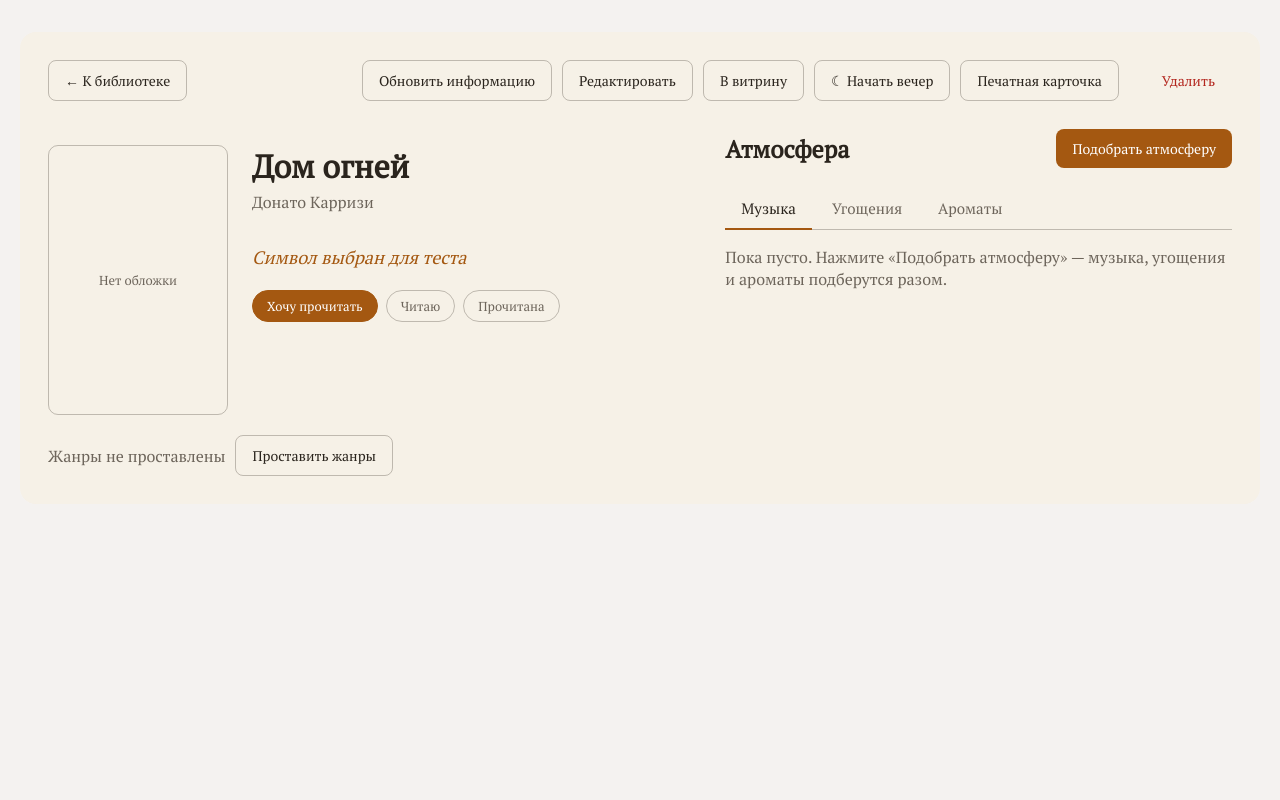
Scenario: ручная правка книги: смена названия сохраняется (задача 3)
Expected: the heading "Дом огней" is shown, [252, 145, 409, 187]
Step 1. Click the button "Редактировать" → (627, 80), box [562, 60, 693, 101]
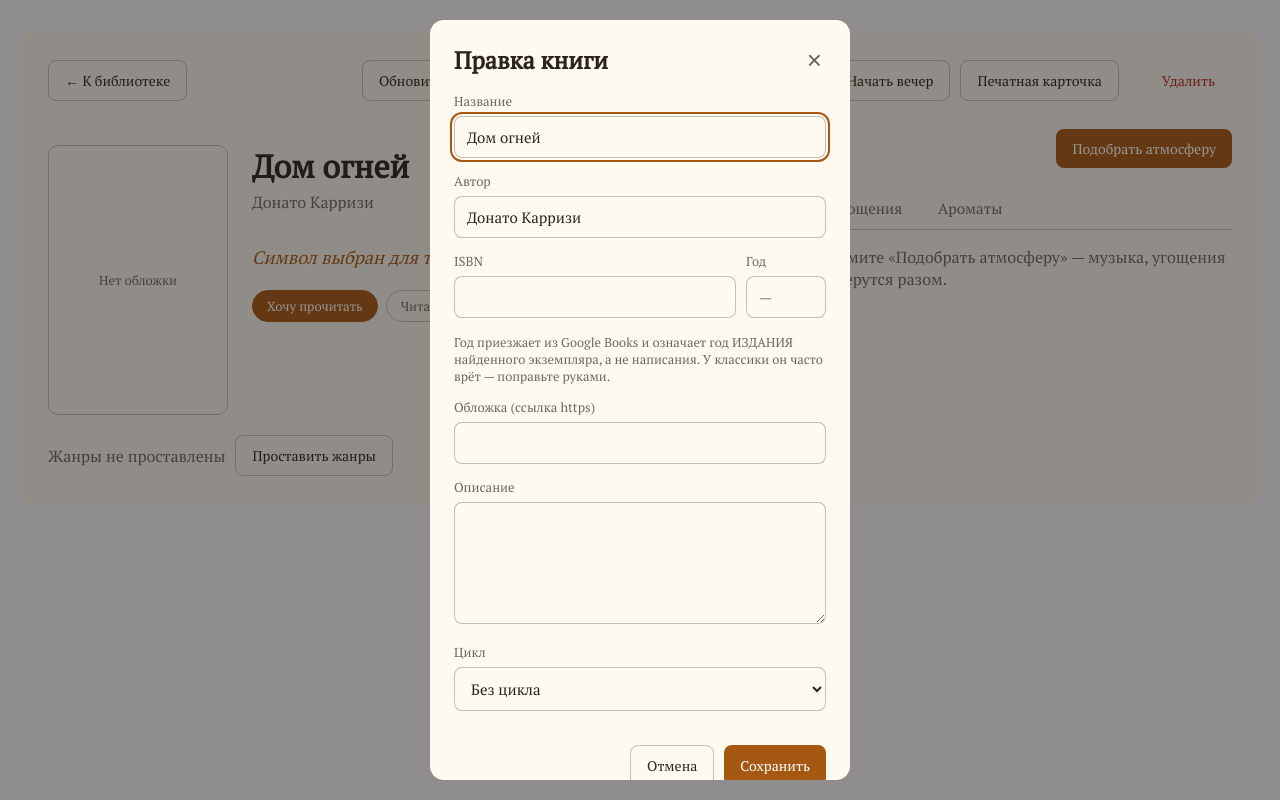
Expected: the field labelled "Название" holds "Дом огней"
Step 2. Clear the field labelled "Название" → (640, 137), box [454, 116, 826, 158]
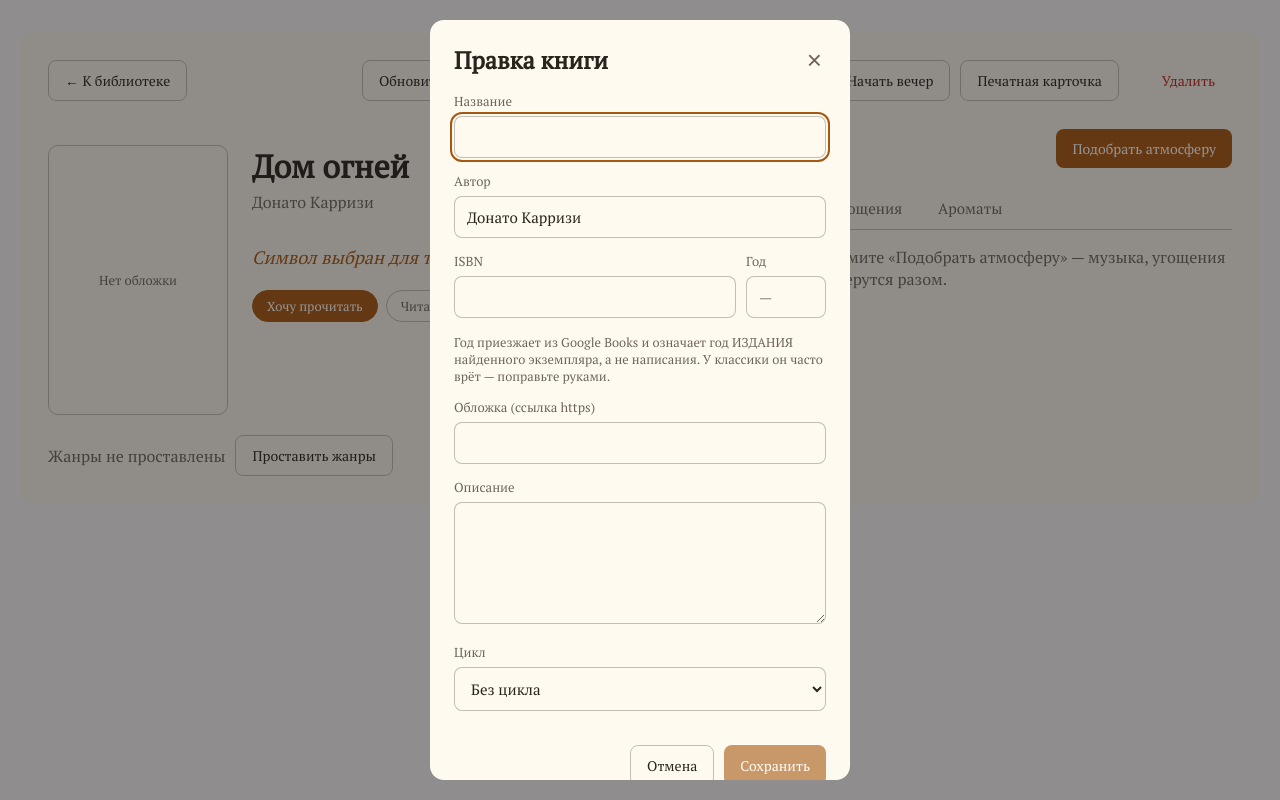
Expected: the button "Сохранить" is disabled, [724, 745, 826, 780]
Step 3. Type "Дом огней (перевод 2021)" into the field labelled "Название" → (640, 137), box [454, 116, 826, 158]
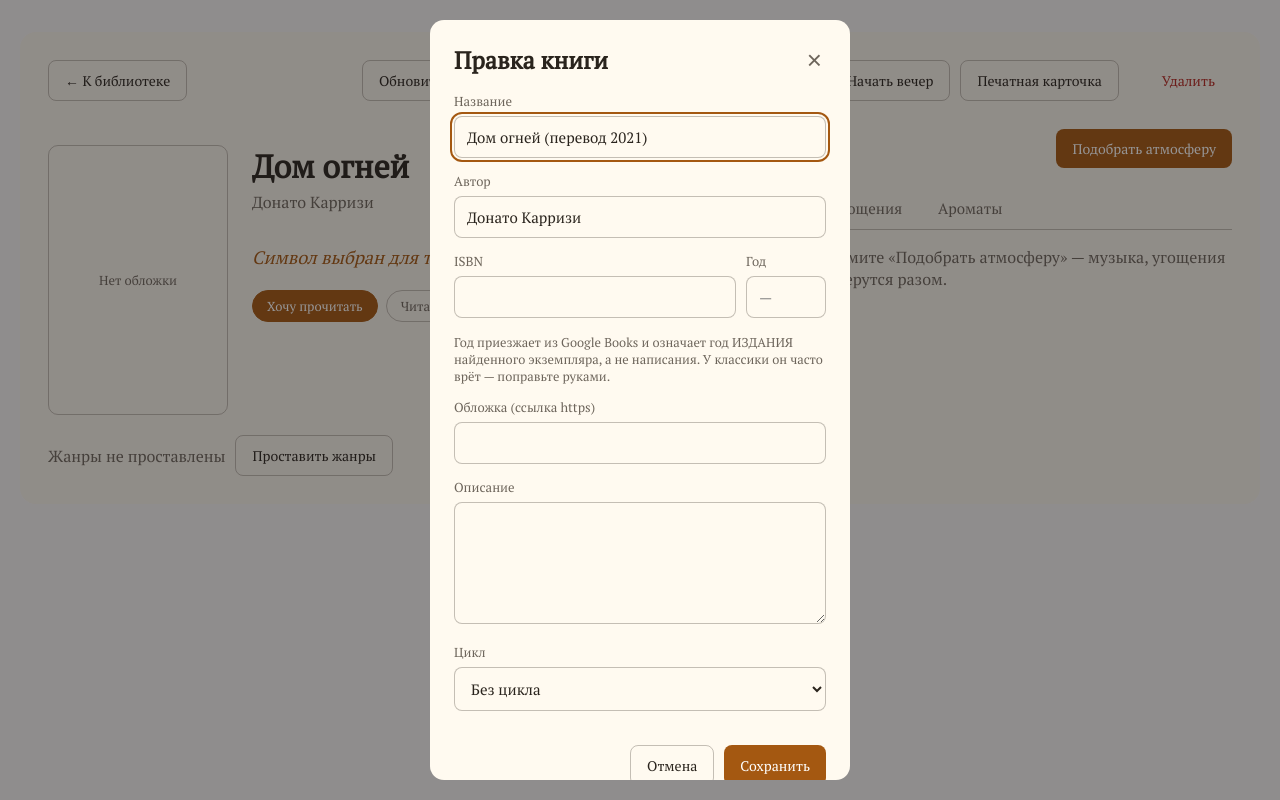
Expected: the button "Сохранить" is enabled
Step 4. Click the button "Сохранить" → (775, 765), box [724, 745, 826, 786]
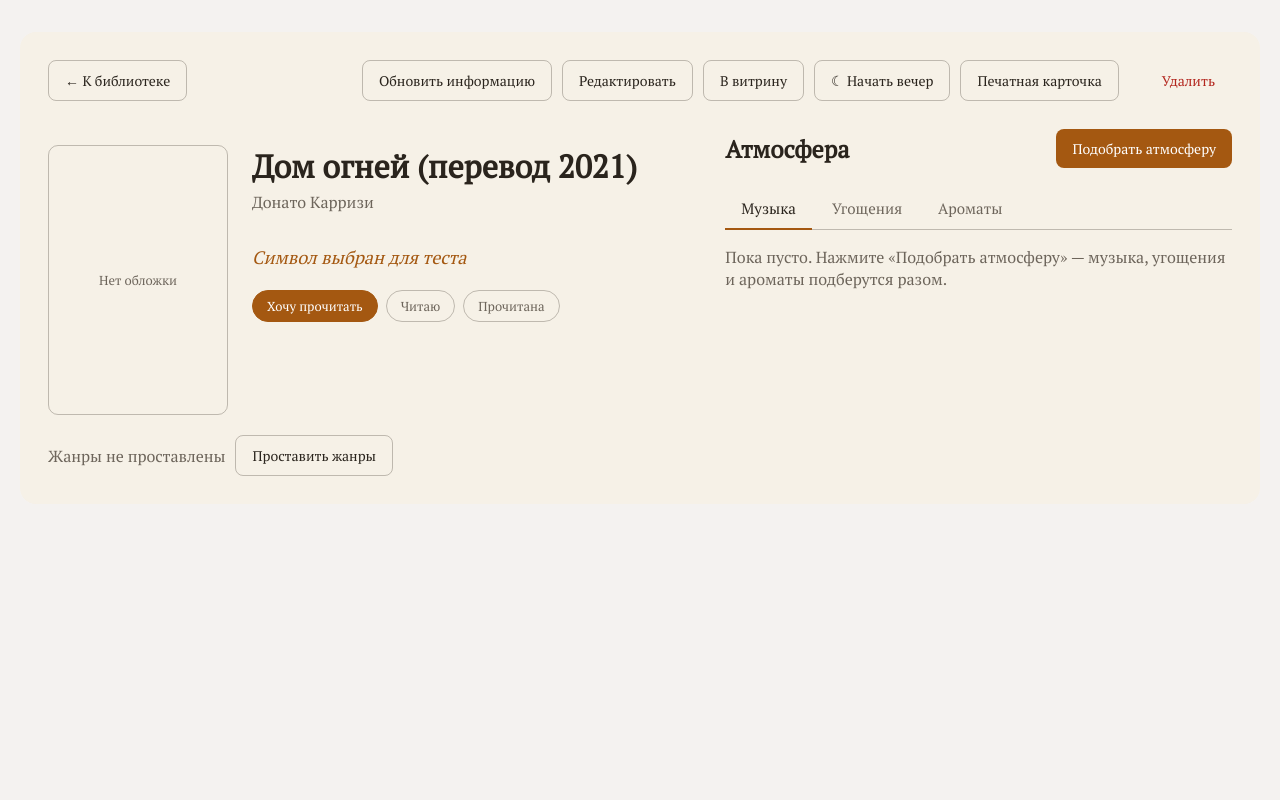
Expected: the heading "Правка книги" is gone
Expected: the heading "Дом огней (перевод 2021)" is shown, [252, 145, 637, 187]
